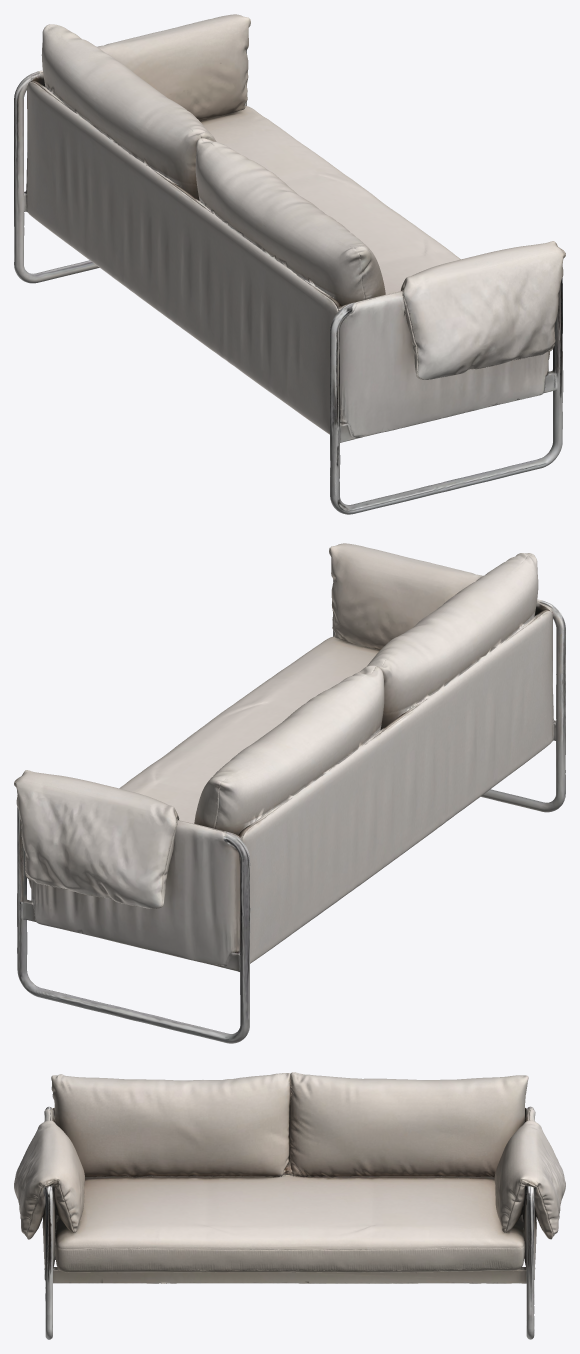
The model's file is amber_fort_tripo.glb.
The picture shows the model from 3 angles, top to bottom: view 1: azimuth 30°, elevation 25°; view 2: azimuth 150°, elevation 25°; view 3: azimuth 270°, elevation 25°; orthographic projection. The views are drawn at different scales.
Parts seen in each view (by area): view 1: tripo_node_3846aea3-c248-42c5-9cec-b588565fc111; view 2: tripo_node_3846aea3-c248-42c5-9cec-b588565fc111; view 3: tripo_node_3846aea3-c248-42c5-9cec-b588565fc111.
Part boxes in pixels (x1,y1,x2,y2): tripo_node_3846aea3-c248-42c5-9cec-b588565fc111: (14, 14, 565, 514); tripo_node_3846aea3-c248-42c5-9cec-b588565fc111: (14, 543, 565, 1043); tripo_node_3846aea3-c248-42c5-9cec-b588565fc111: (14, 1072, 565, 1339).
Size of the model in its own units: 0.3635 by 0.3889 by 0.9795.
1 material, 1 textured.
